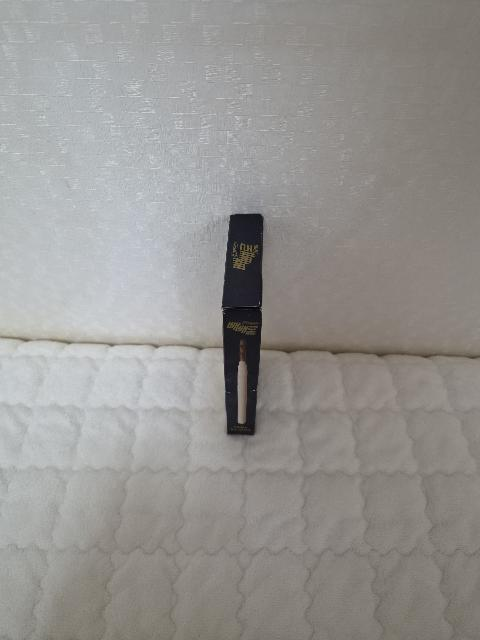pepero: (221, 214, 264, 435)
